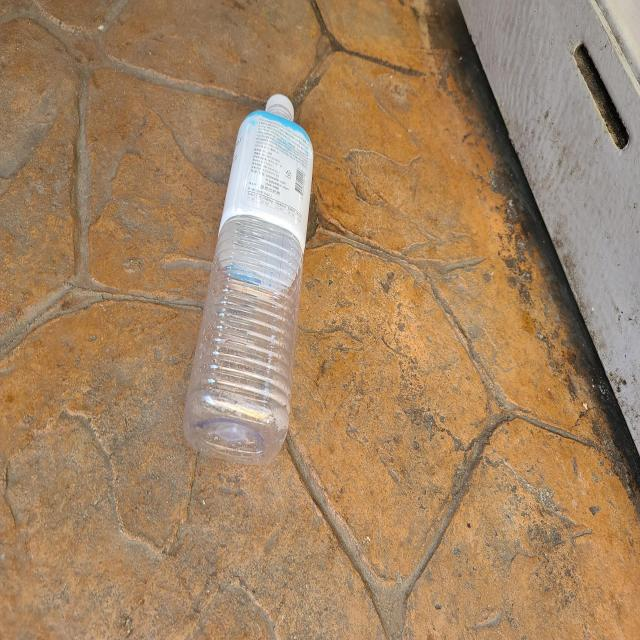plastic: (183, 93, 313, 465)
